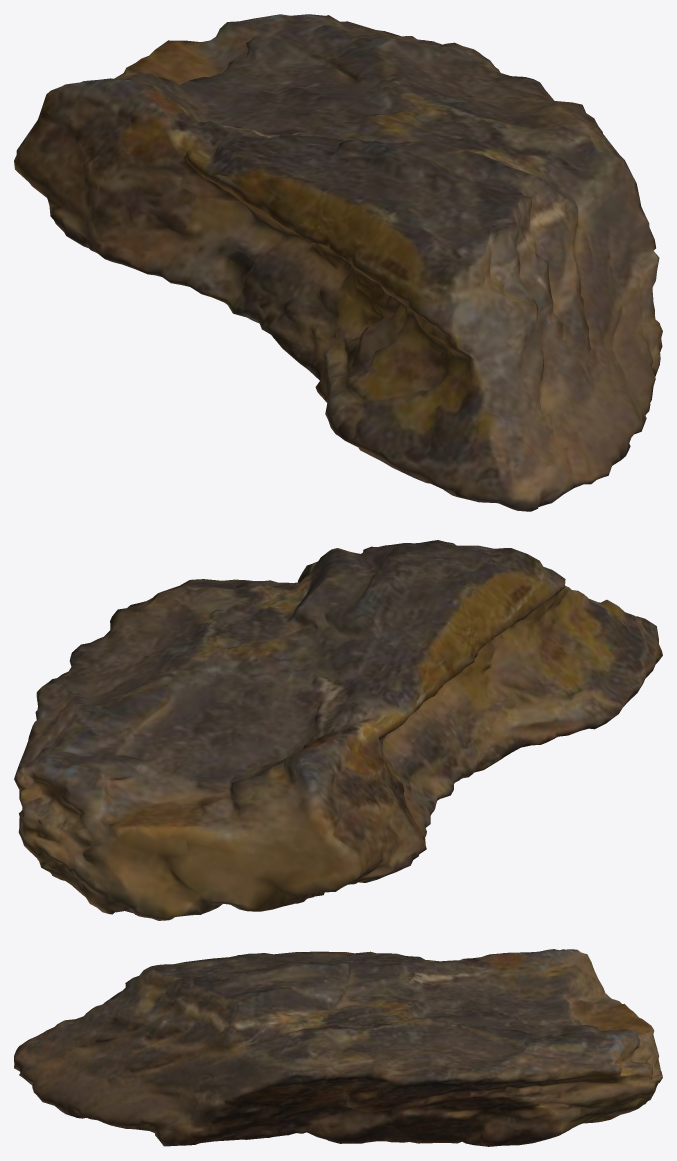
Rendered from rock_09.glb.
The picture shows the model from 3 angles, top to bottom: view 1: azimuth 30°, elevation 25°; view 2: azimuth 150°, elevation 25°; view 3: azimuth 270°, elevation 25°; orthographic projection. The views are drawn at different scales.
Parts seen in each view (by area): view 1: rock_09_LOD0; view 2: rock_09_LOD0; view 3: rock_09_LOD0.
Part boxes in pixels (x1,y1,x2,y2): rock_09_LOD0: (14, 14, 662, 511); rock_09_LOD0: (14, 540, 662, 920); rock_09_LOD0: (14, 949, 662, 1146).
Bounding box in the file's own units: 0.074 × 0.0329 × 0.1446.
Materials: 1 (1 with a texture image).
